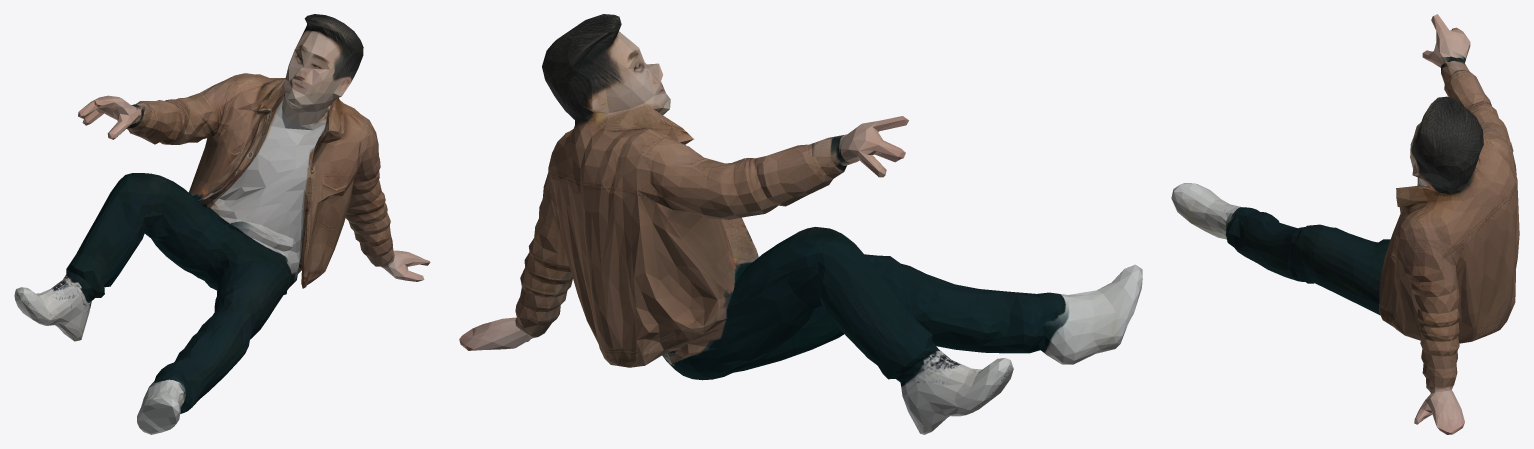
The model's file is pedestrian.glb.
3 renders of one model, left to right at view 1: azimuth 30°, elevation 25°; view 2: azimuth 150°, elevation 25°; view 3: azimuth 270°, elevation 25°, orthographic. The views are drawn at different scales.
Visible parts, largest first — view 1: pedestrian; view 2: pedestrian; view 3: pedestrian.
Part boxes in pixels (left/top/right/bottom): pedestrian: left=14, top=14, right=430, bottom=434; pedestrian: left=459, top=14, right=1142, bottom=434; pedestrian: left=1171, top=14, right=1519, bottom=434.
Size of the model in its own units: 2.05 by 1.3 by 1.46.
Materials: 1 (1 with a texture image).
